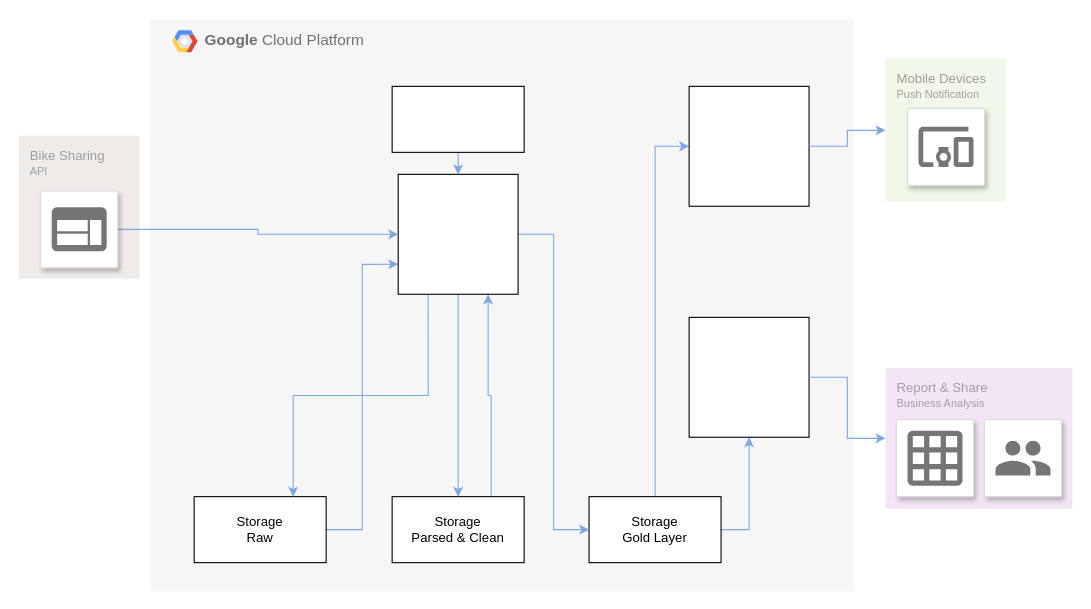
The diagram is 1091 pixels wide and 609 high, and some of its shapes have lost their labels. Each missing label, with the centre of its shape:
"App Serving Compute" belongs at point (748, 145).
"BI Serving Compute" belongs at point (748, 376).
"Data Processing Compute" belongs at point (457, 233).
"Orchestrate" belongs at point (457, 118).
